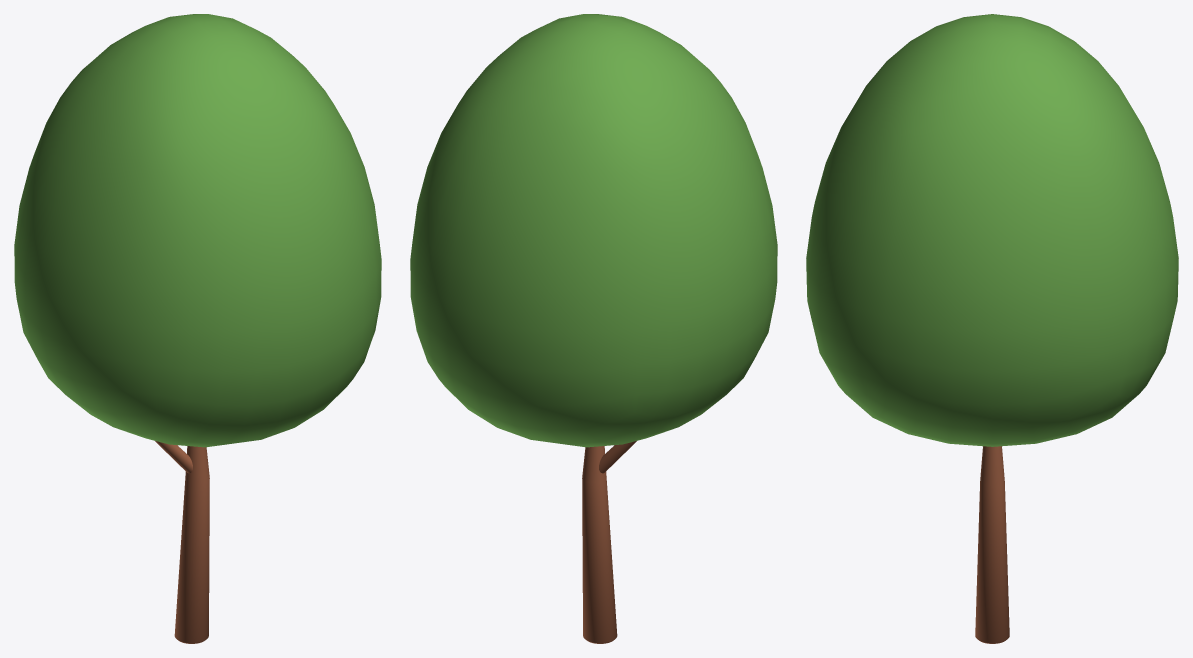
The model's file is tree6.fbx.
The picture shows the model from 3 angles, left to right: view 1: azimuth 30°, elevation 25°; view 2: azimuth 150°, elevation 25°; view 3: azimuth 270°, elevation 25°; orthographic projection.
Parts seen in each view (by area): view 1: tree6; view 2: tree6; view 3: tree6.
Boxes of the visible parts, bbox=[...] form: tree6: bbox=[14, 14, 381, 643]; tree6: bbox=[410, 14, 777, 643]; tree6: bbox=[806, 14, 1178, 643].
Size of the model in its own units: 393 by 730 by 400.
